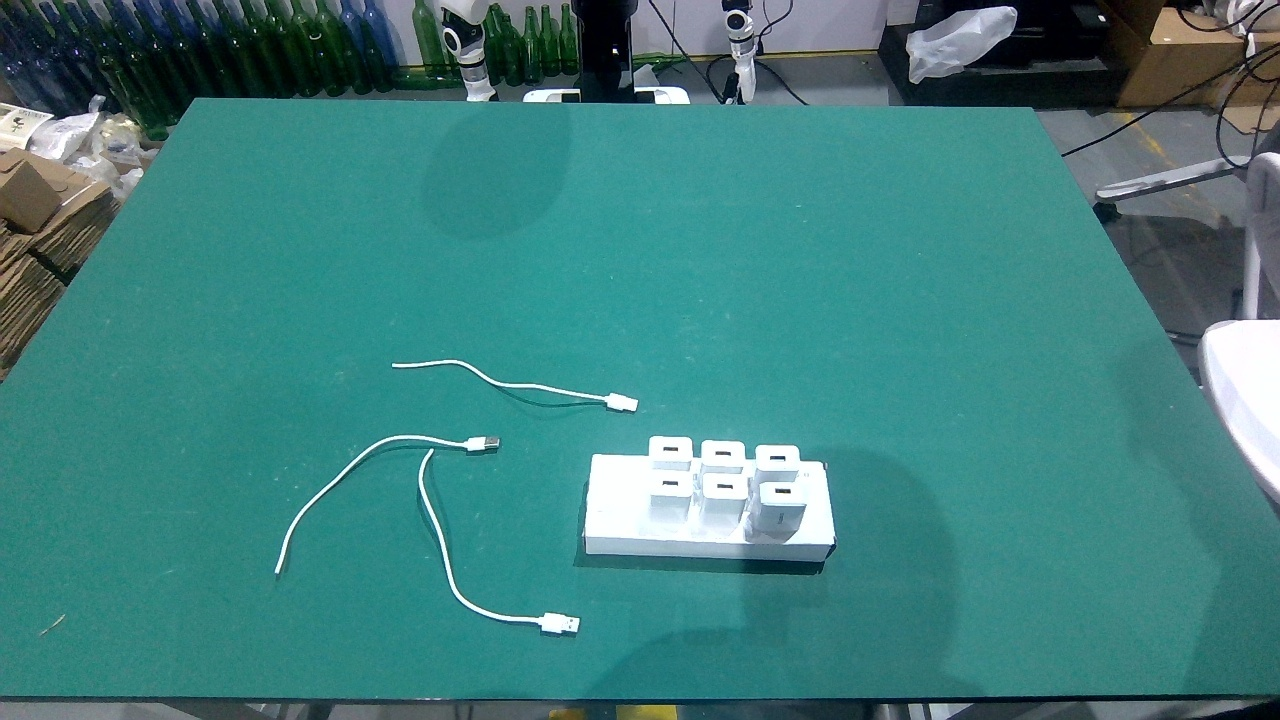usb_a_plug: (527, 610, 580, 637), (593, 388, 640, 415), (453, 435, 500, 454)
